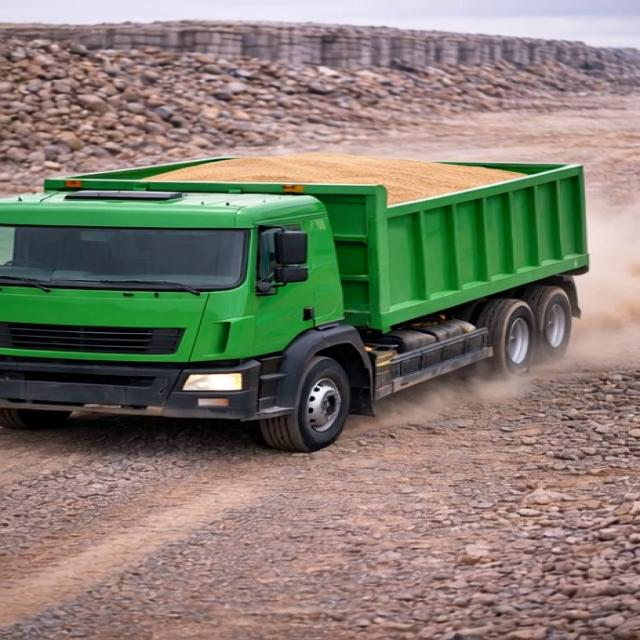Box: (35, 149, 602, 195)
Truck: (0, 136, 616, 449)
